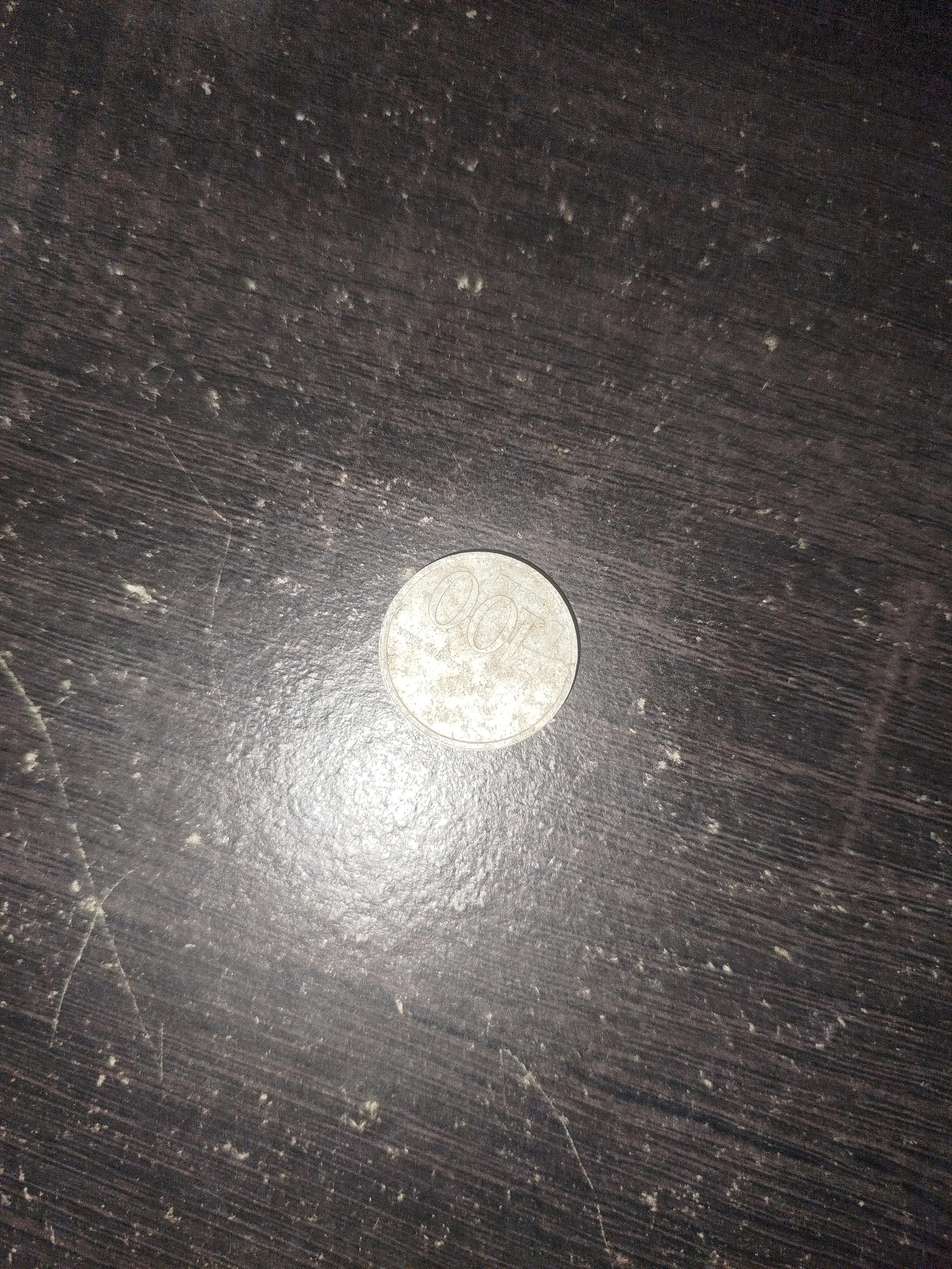coin_100_e1999: (369, 547, 580, 749)
